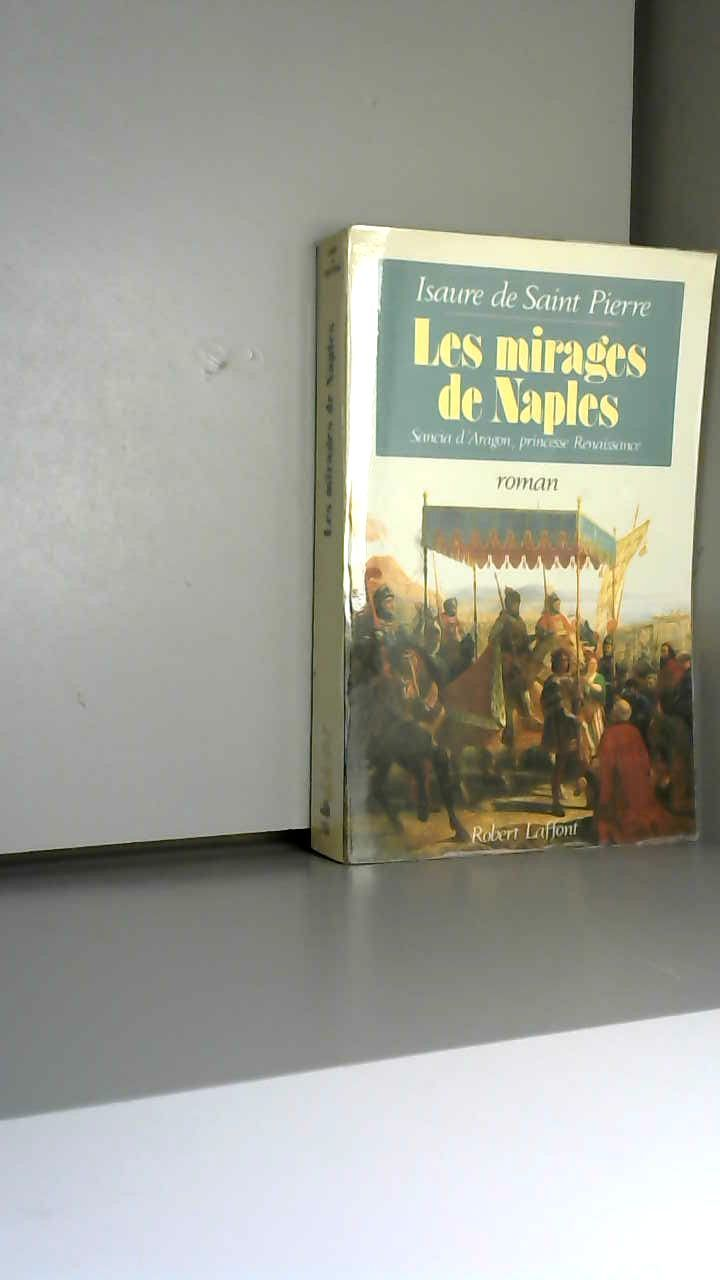book: (320, 200, 720, 914)
